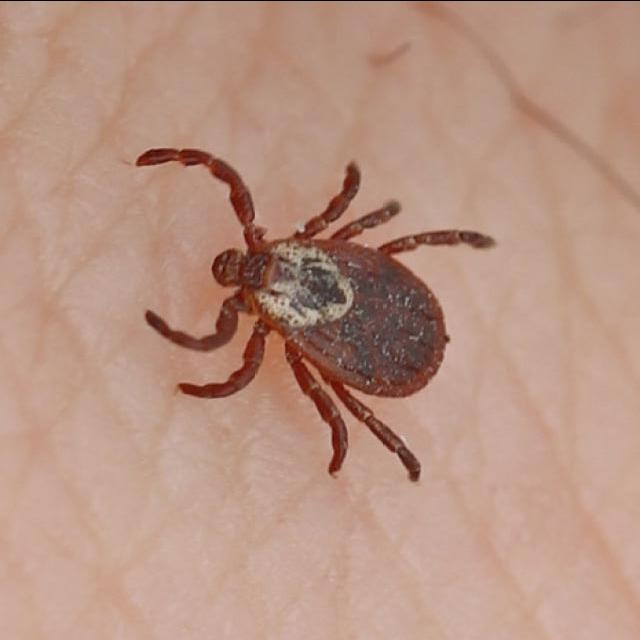Dermacentor Reticulatus-F: (136, 147, 494, 481)
